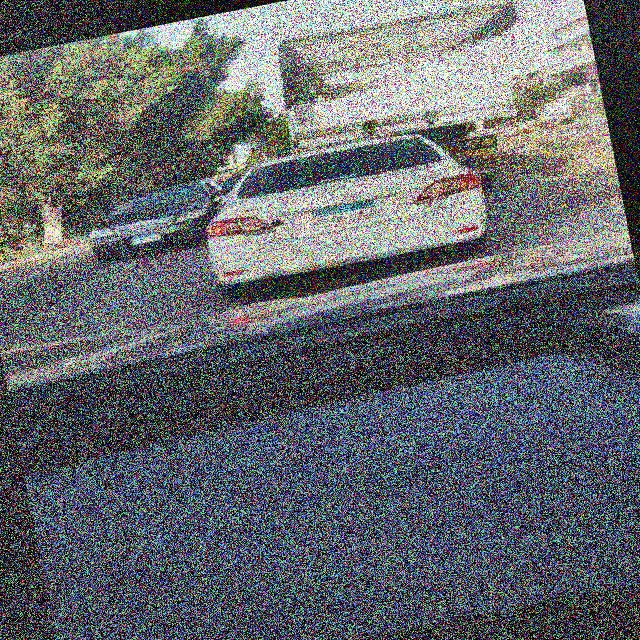License Plate: (310, 199, 378, 230), (129, 231, 163, 246)
